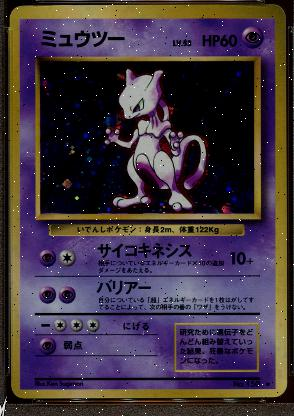Card: (8, 4, 288, 398)
